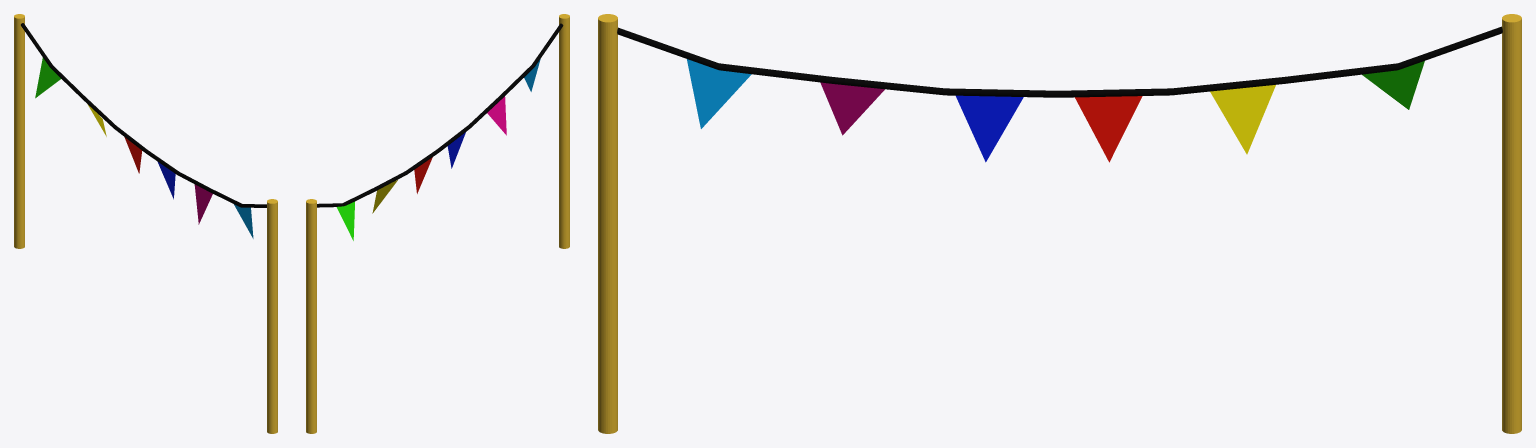
The model's file is drapeauxcolorés.fbx.
3 renders of one model, left to right at view 1: azimuth 30°, elevation 25°; view 2: azimuth 150°, elevation 25°; view 3: azimuth 270°, elevation 25°, orthographic. The views are drawn at different scales.
Visible parts, largest first — view 1: Poteaux, Corde, Plane.005, Plane.003, Plane.004, Plane; view 2: Poteaux, Corde, Plane.003, Plane.005, Plane.001, Plane; view 3: Poteaux, Corde, Plane, Plane.001, Plane.002, Plane.004, Plane.003, Plane.005.
Boxes of the visible parts, x1,y1,x2,y2 form: Poteaux: (14, 14, 277, 433); Corde: (21, 23, 266, 207); Plane.005: (35, 57, 60, 98); Plane.003: (194, 184, 212, 224); Plane.004: (234, 204, 253, 238); Plane: (157, 161, 175, 199); Poteaux: (306, 14, 569, 433); Corde: (317, 23, 563, 207); Plane.003: (487, 96, 506, 135); Plane.005: (336, 201, 354, 240); Plane.001: (414, 157, 432, 193); Plane: (447, 132, 465, 168); Poteaux: (598, 14, 1521, 433); Corde: (617, 26, 1502, 97); Plane: (956, 95, 1023, 162); Plane.001: (1075, 96, 1142, 162); Plane.002: (1210, 85, 1275, 154); Plane.004: (687, 59, 751, 128); Plane.003: (820, 82, 884, 135); Plane.005: (1362, 61, 1424, 109).
Size of the model in its own units: 33.27 by 276 by 562.
